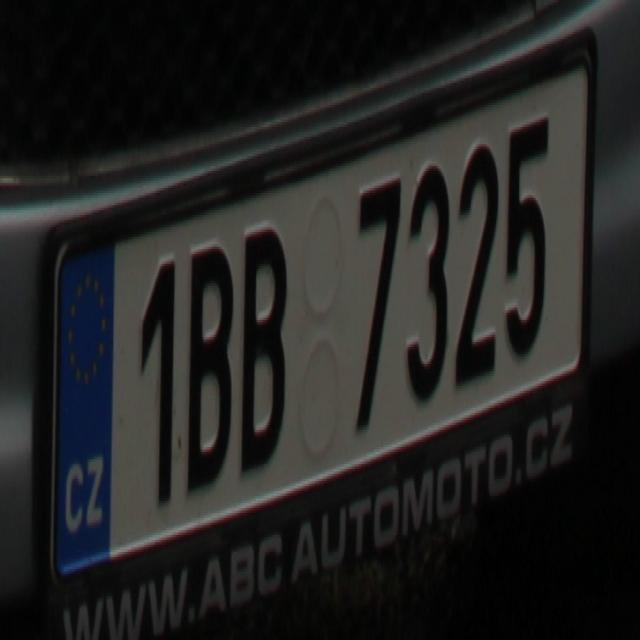1: (140, 259, 178, 501)
2: (454, 134, 498, 386)
3: (406, 152, 450, 406)
5: (504, 112, 550, 359)
7: (353, 174, 402, 428)
B: (238, 220, 287, 462), (189, 244, 229, 481)
